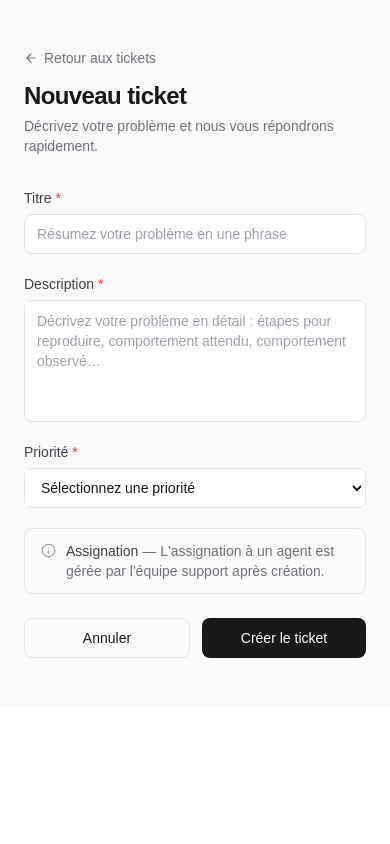
Test: NewTicket page › désactive le bouton et affiche "Création…" pendant le chargement
The width and height of the screenshot is (390, 844).
Type "Mon ticket test" into the field labelled "Titre *". click: x=195, y=234
box: [24,214,366,254]
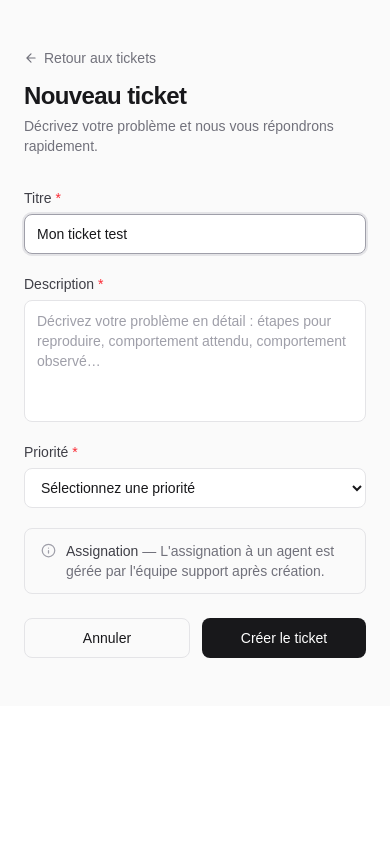
Type "Description suffisante" into the text box labelled "Description *". click: x=195, y=361
box: [24,300,366,422]
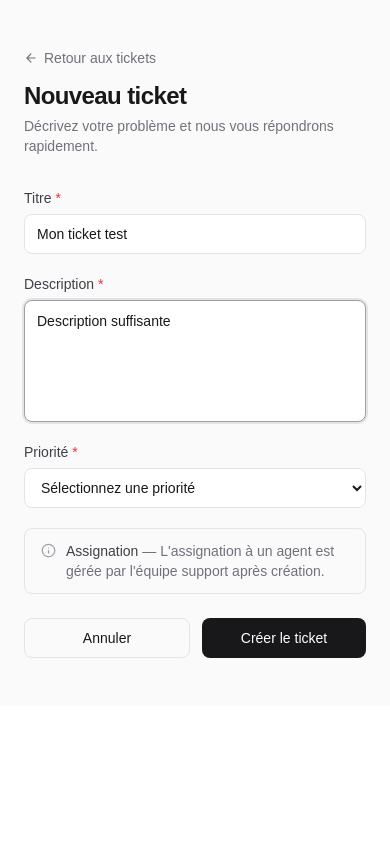
Select "Urgente" in the dropdown labelled "Priorité *". click: x=195, y=488
box: [24,468,366,508]
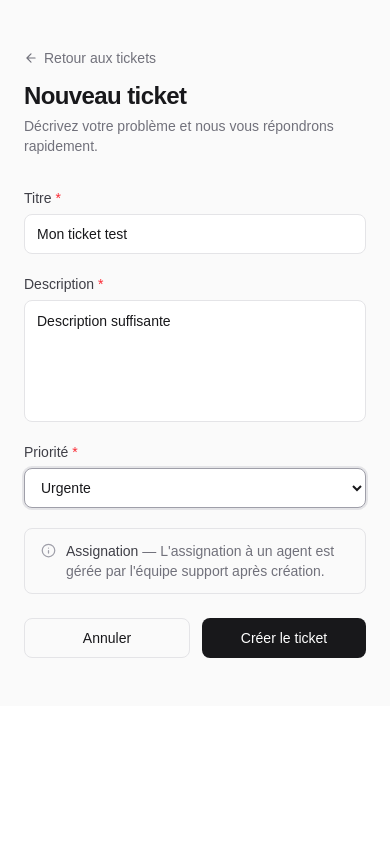
Click the button "Créer le ticket". click: x=284, y=638
box: [202,618,366,658]
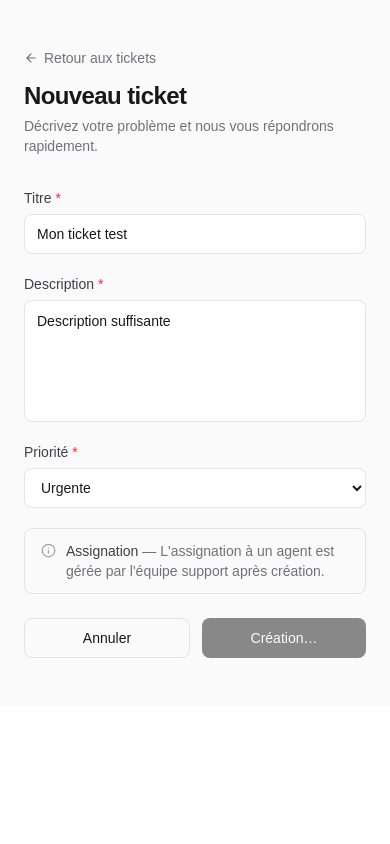
Check: the button "Création…" is disabled, box [202,618,366,658]
